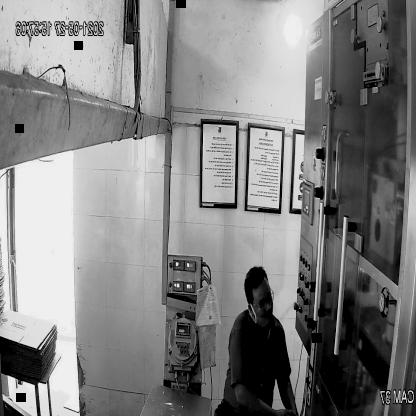goggles: (247, 286, 276, 314)
